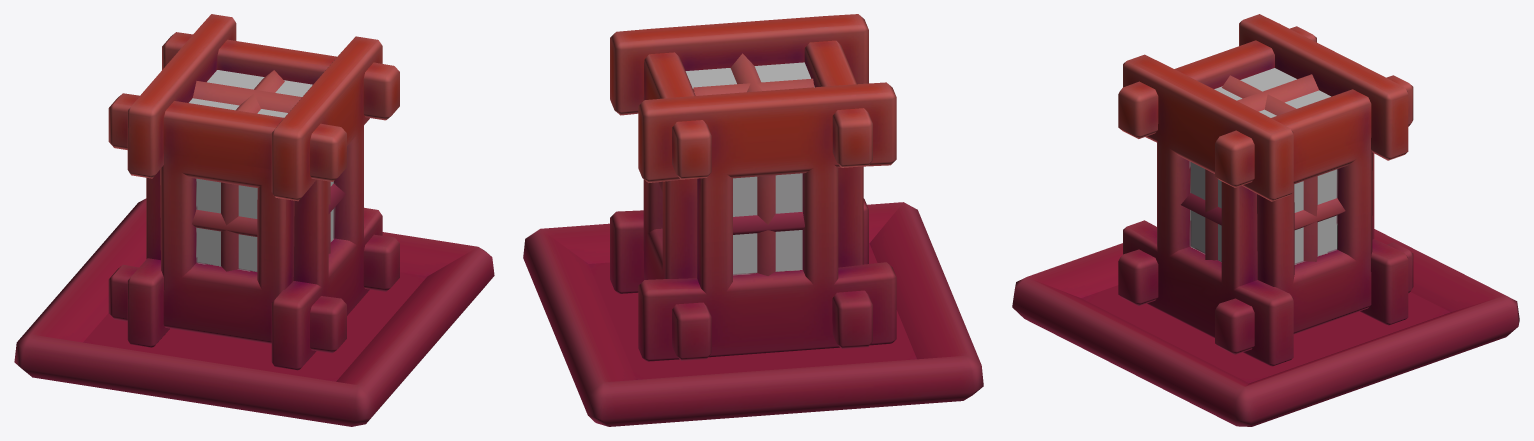
Rendered from lantern_03.fbx.
3 renders of one model, left to right at view 1: azimuth 30°, elevation 25°; view 2: azimuth 150°, elevation 25°; view 3: azimuth 270°, elevation 25°, orthographic. The views are drawn at different scales.
Parts seen in each view (by area): view 1: m_boxlantern_01, m_boxlantern_float_01; view 2: m_boxlantern_01, m_boxlantern_float_01; view 3: m_boxlantern_01, m_boxlantern_float_01.
Boxes of the visible parts, x1,y1,x2,y2 form: m_boxlantern_01: [108, 14, 399, 370]; m_boxlantern_float_01: [14, 198, 494, 426]; m_boxlantern_01: [610, 14, 896, 361]; m_boxlantern_float_01: [523, 202, 983, 426]; m_boxlantern_01: [1118, 14, 1413, 366]; m_boxlantern_float_01: [1012, 229, 1519, 426].
Size of the model in its own units: 1.83 by 1.07 by 1.83.
